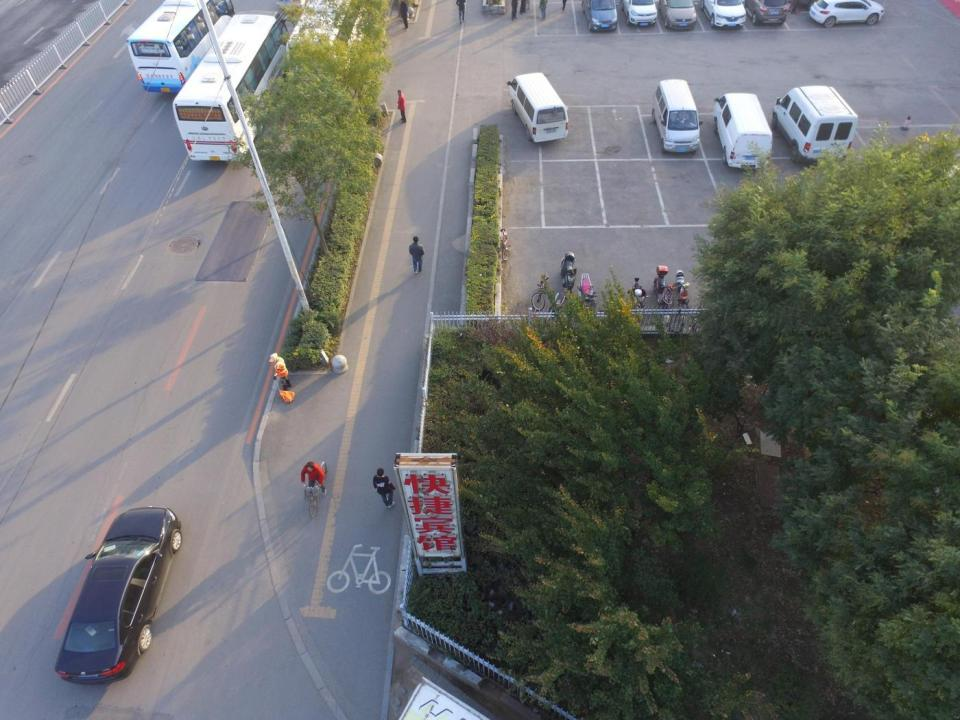bus: (172, 9, 292, 160), (128, 0, 232, 92)
car: (53, 506, 182, 683), (810, 0, 886, 26), (699, 0, 745, 27), (581, 1, 620, 31), (745, 0, 787, 26), (618, 0, 657, 26), (658, 0, 695, 27)
van: (772, 85, 856, 167), (713, 94, 772, 171), (506, 72, 569, 141), (648, 79, 700, 155)
